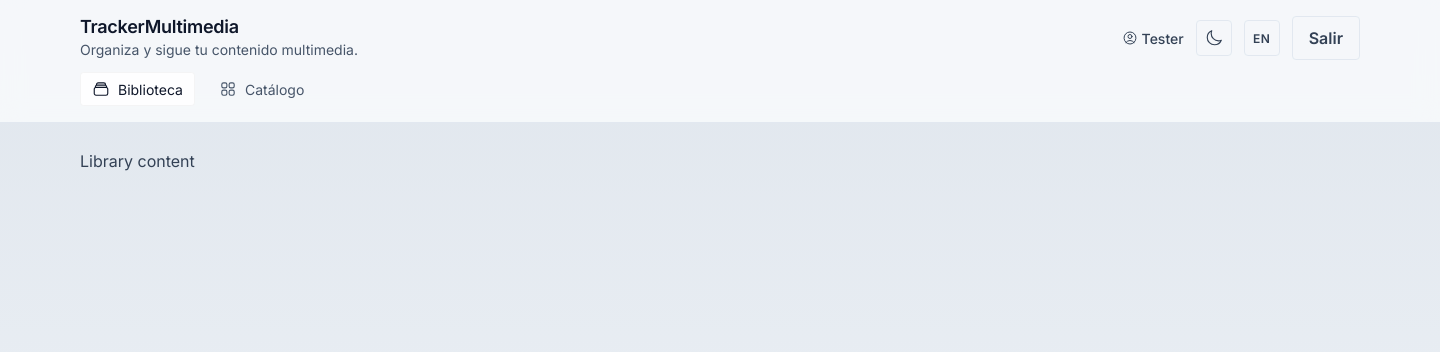
Test: AppLayout › warns when the server could not be told about the sign-out
Click the button "Salir" at (1326, 38), box [1292, 16, 1360, 60]
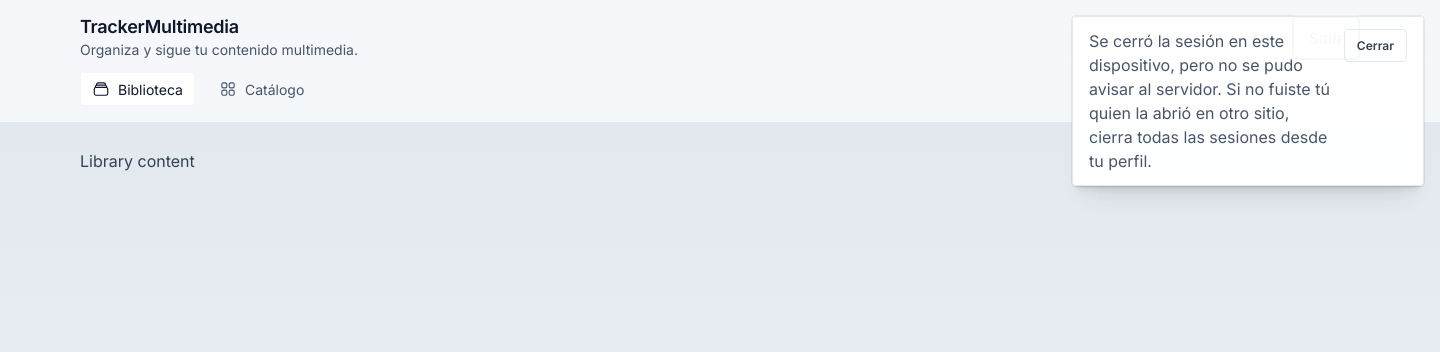
Expected: the text "no se pudo avisar al servidor" is shown, [1089, 31, 1330, 171]
